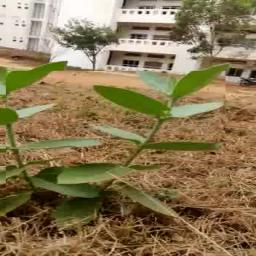CALOTROPIS: (6, 71, 226, 218)
